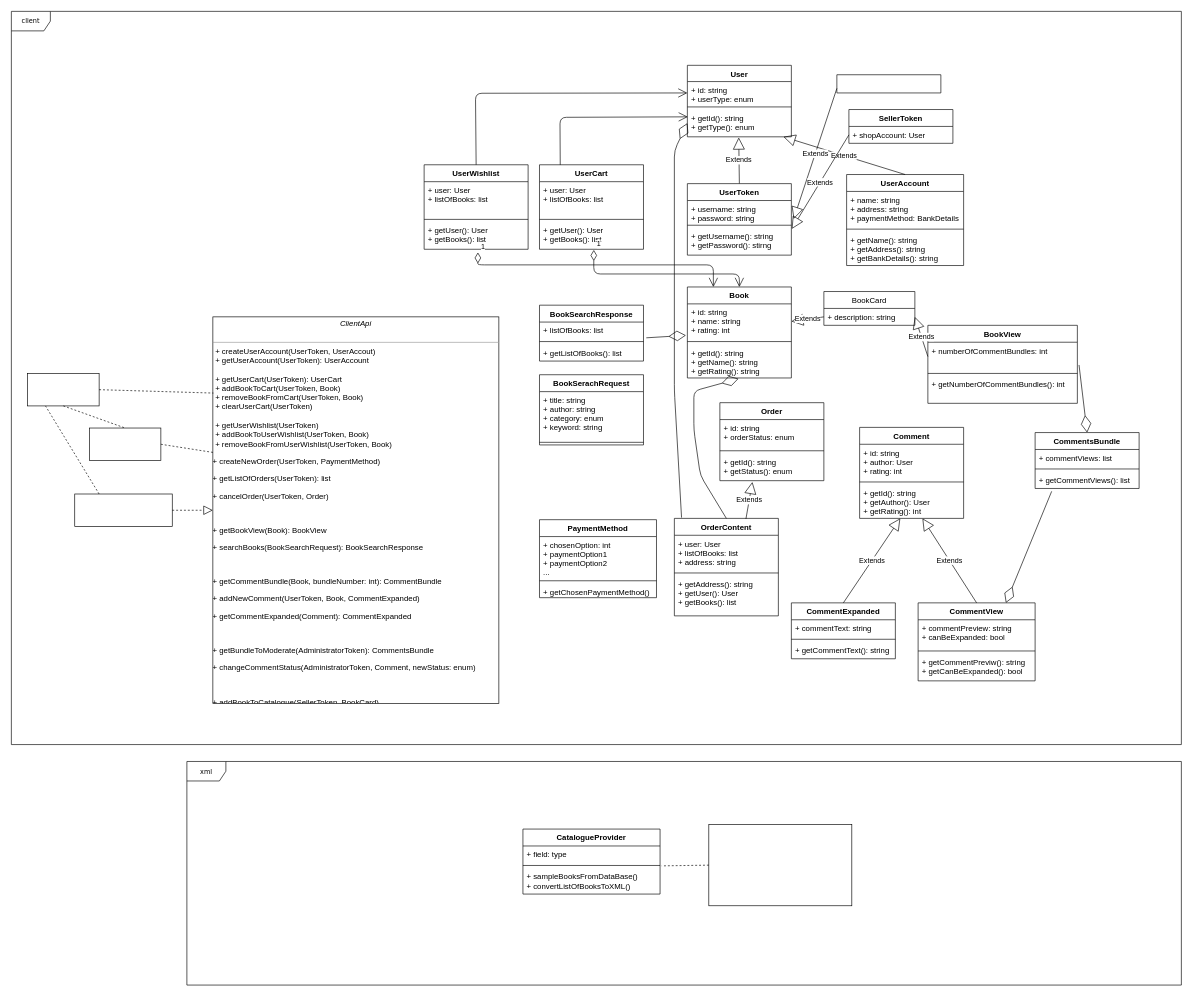
The diagram is 1193 pixels wide and 996 high, and some of its shapes have lost their labels. Here are the shapes that lost their labels. From the top down, the centre of each, then its label:
pixel 888 83: AdministratorToken
pixel 63 389: Database
pixel 125 444: AccessController
pixel 123 509: ServiceImplementation
pixel 780 865: XmlApi + getMiniCatalogue(serviceId): XML
